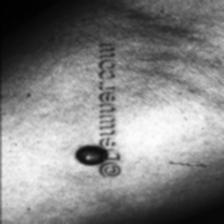Potentially Malignant Skin Tumors: (74, 146, 108, 166)
